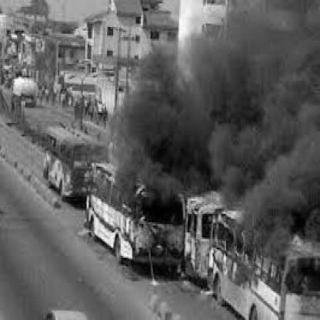Fire: (228, 207, 318, 291)
Smoke: (95, 2, 318, 225)
